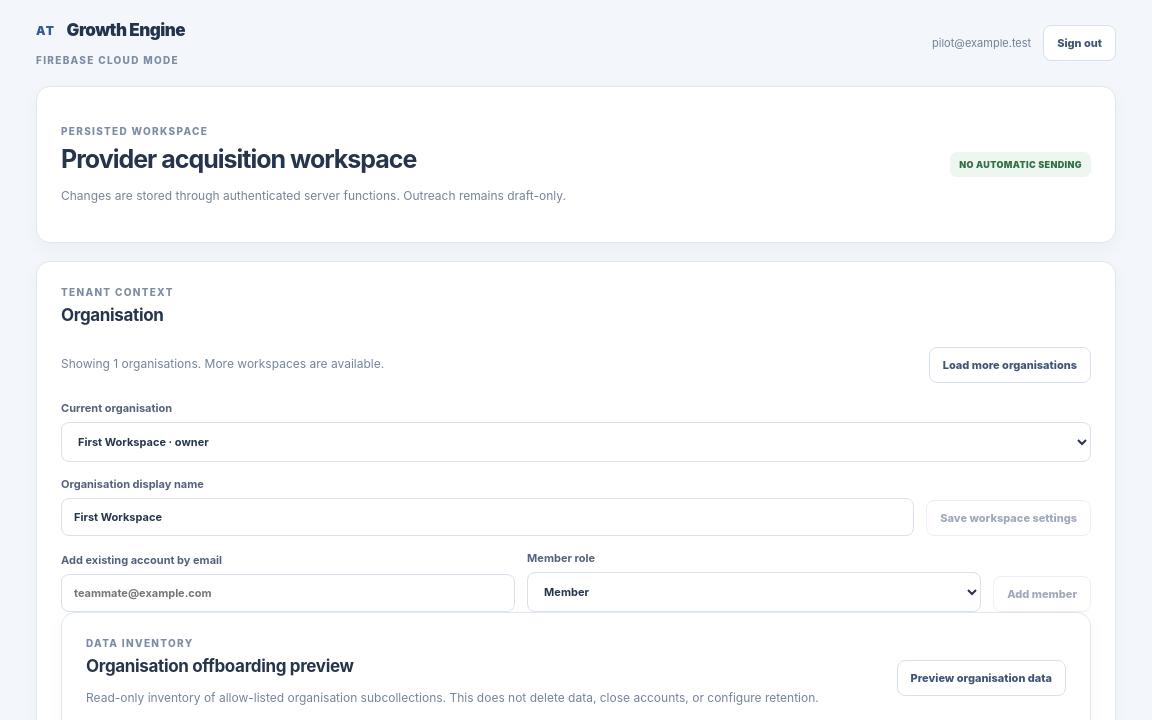
Test: cloud authentication gate › loads additional organisation pages without replacing the first page
The width and height of the screenshot is (1152, 720).
Click the button "Load more organisations" at (1010, 365), box [929,347,1091,383]
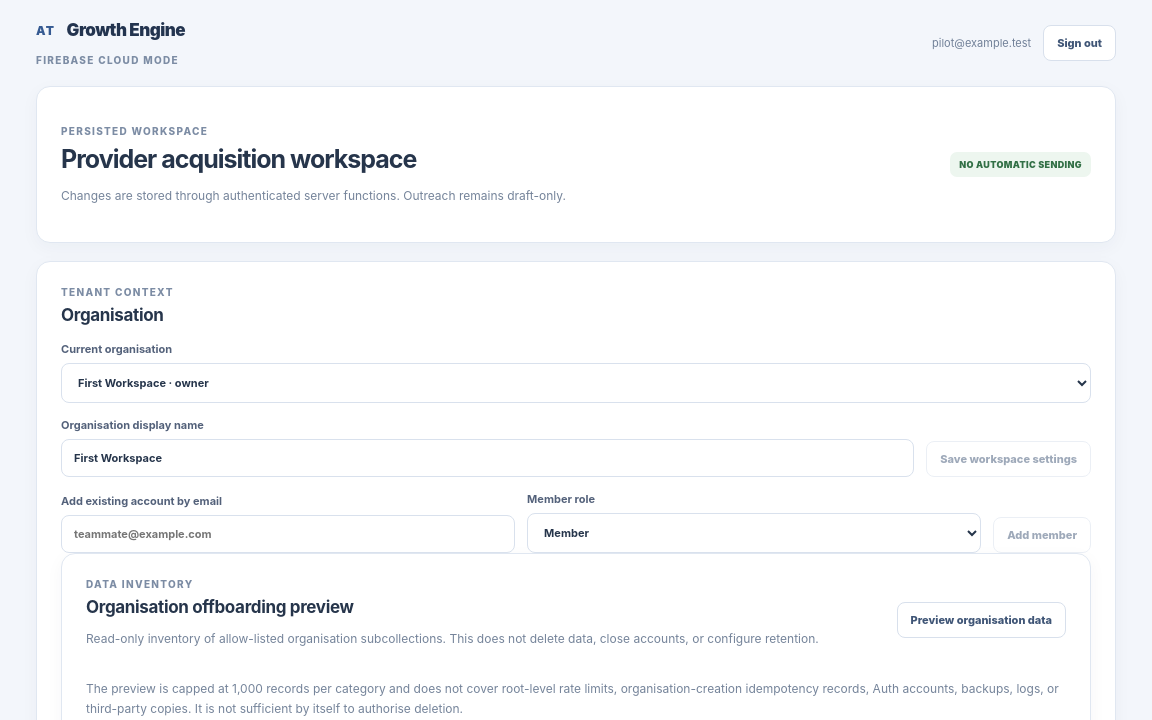
Now the button "Load more organisations" is gone
